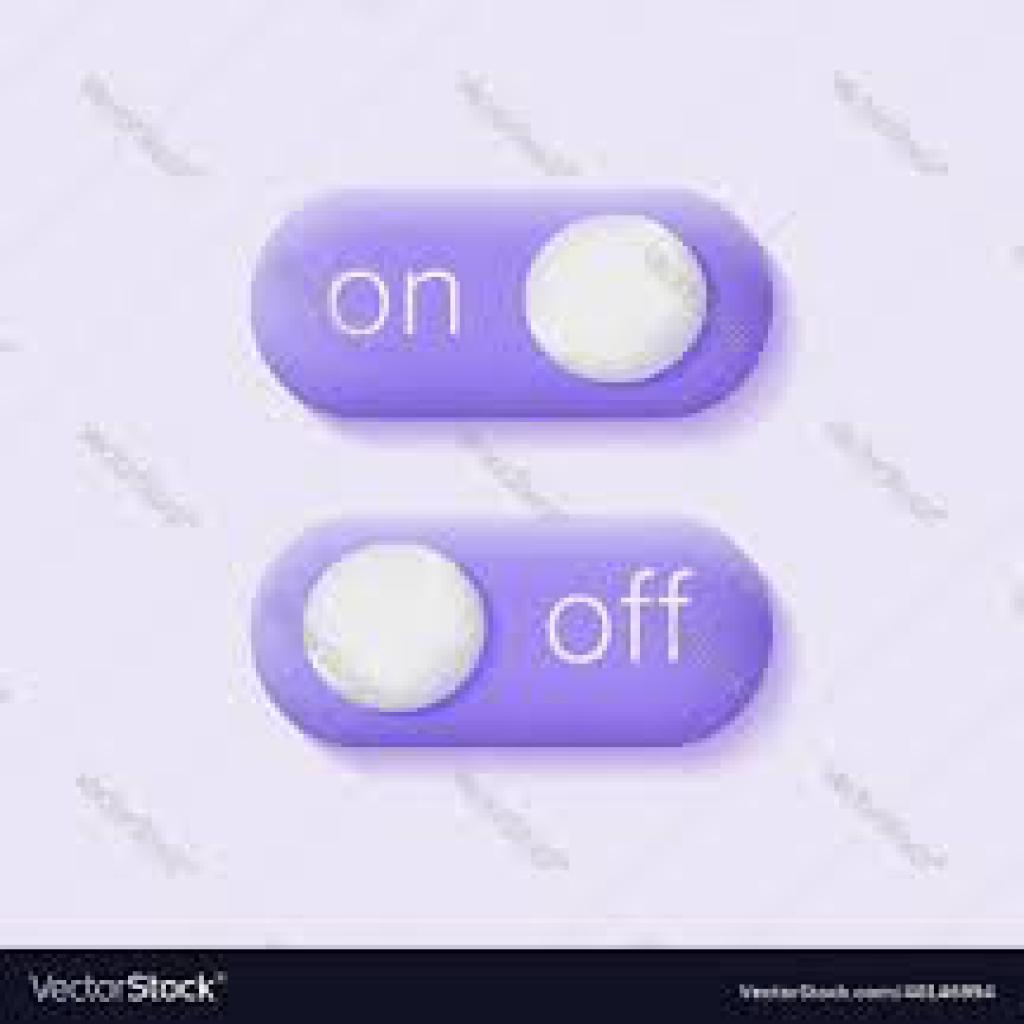switch: (234, 491, 798, 775), (255, 184, 786, 426)
